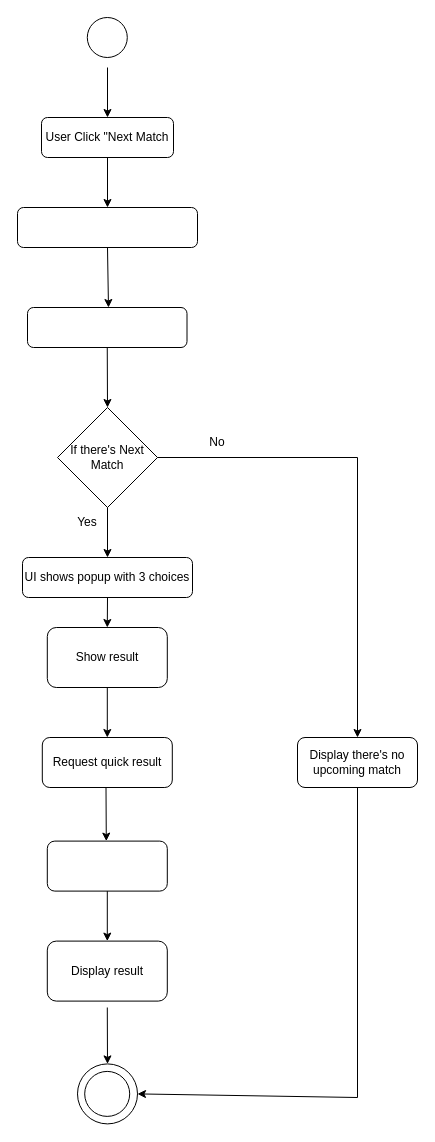
The diagram is 435 pixels wide and 1142 high, and some of its shapes have lost their labels. Each missing label, with the centre of its shape:
"Fetch match info & opponent" belongs at (x=106, y=327).
"Request match info (next-match)" belongs at (x=107, y=227).
"Return result" belongs at (x=106, y=865).
